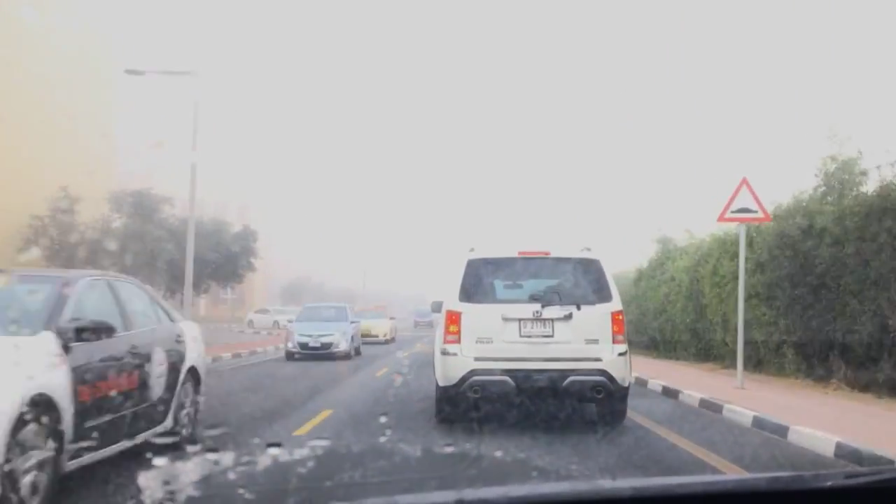car: (1, 260, 210, 504), (431, 244, 636, 427), (284, 303, 364, 360), (347, 306, 400, 346), (244, 304, 301, 332), (411, 306, 436, 329)
